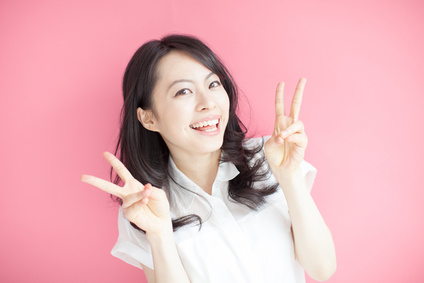face: (137, 49, 229, 152)
hand: (78, 151, 170, 236), (263, 74, 308, 182)
